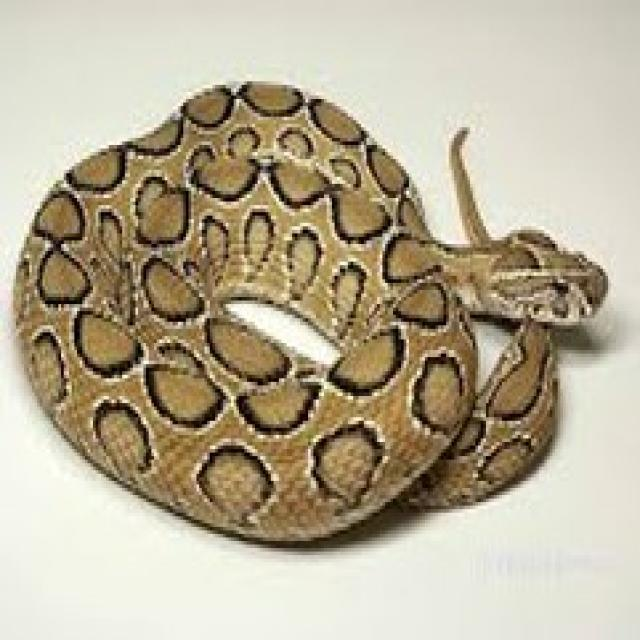Snake: (11, 74, 608, 545)
